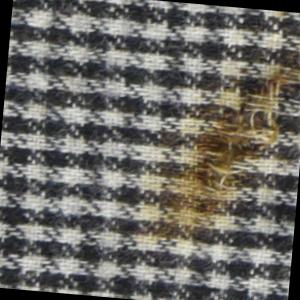Damage: (173, 41, 300, 240)
Oil Stain: (126, 1, 300, 265)
